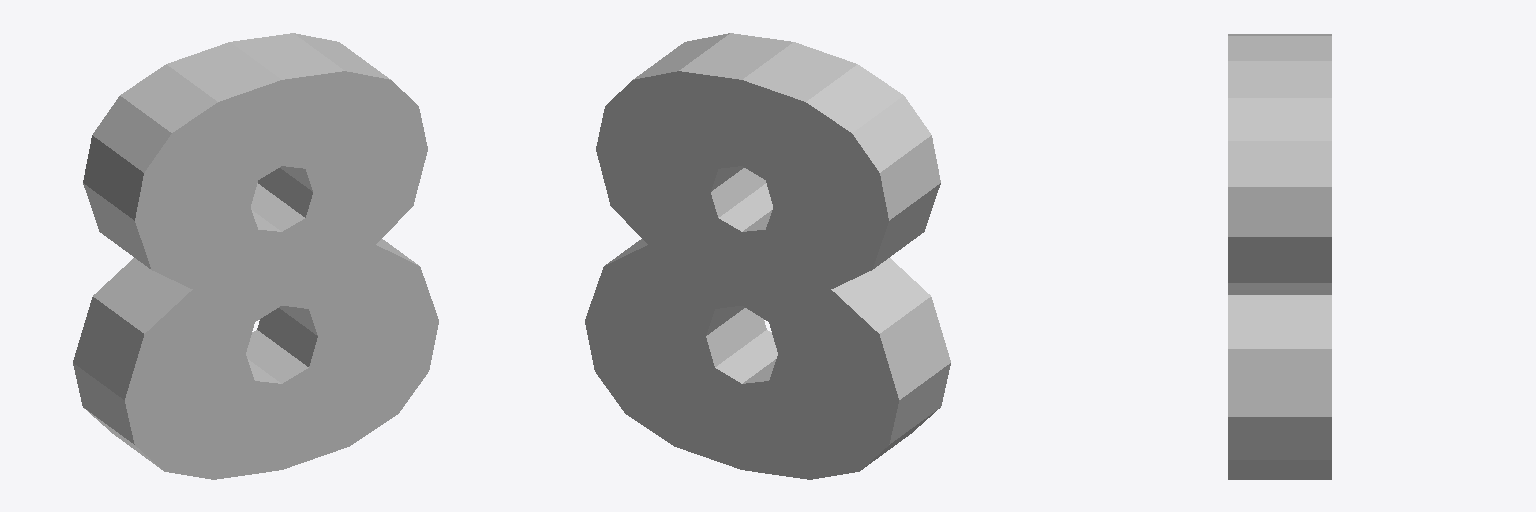
3 views of the same model, side by side, from view 1: azimuth 30°, elevation 25°; view 2: azimuth 150°, elevation 25°; view 3: azimuth 270°, elevation 25° (orthographic).
Parts seen in each view (by area): view 1: text: ABCDEFGHIJKLMNOPQRSTUVWXYZ[number redacted]; view 2: text: ABCDEFGHIJKLMNOPQRSTUVWXYZ[number redacted]; view 3: text: ABCDEFGHIJKLMNOPQRSTUVWXYZ[number redacted].
Boxes of the visible parts, x1=… form: text: ABCDEFGHIJKLMNOPQRSTUVWXYZ[number redacted]: x1=73, y1=33, x2=438, y2=479; text: ABCDEFGHIJKLMNOPQRSTUVWXYZ[number redacted]: x1=585, y1=33, x2=950, y2=479; text: ABCDEFGHIJKLMNOPQRSTUVWXYZ[number redacted]: x1=1228, y1=34, x2=1331, y2=479.
Size of the model in its own units: 87.4 by 104 by 25.